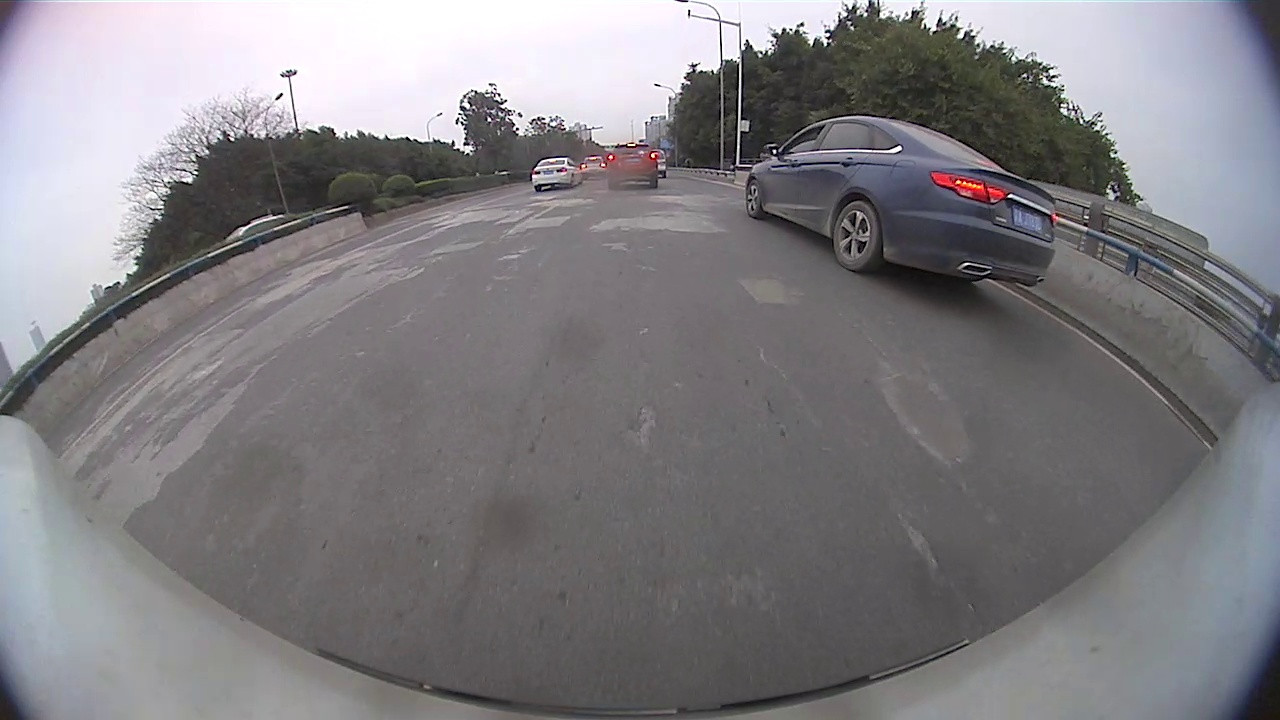car: (745, 114, 1059, 289), (603, 140, 660, 193), (220, 212, 290, 246), (531, 154, 585, 195)
front: (744, 178, 765, 217)
rear: (828, 203, 883, 270)
